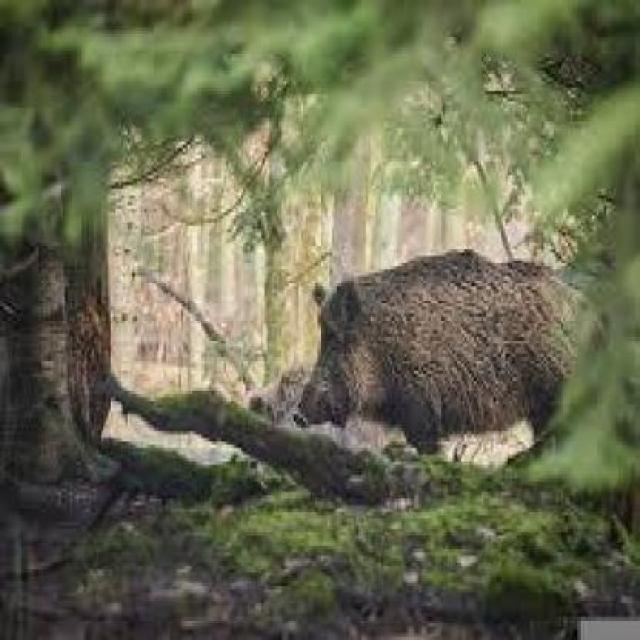wildboar: (285, 248, 598, 460)
